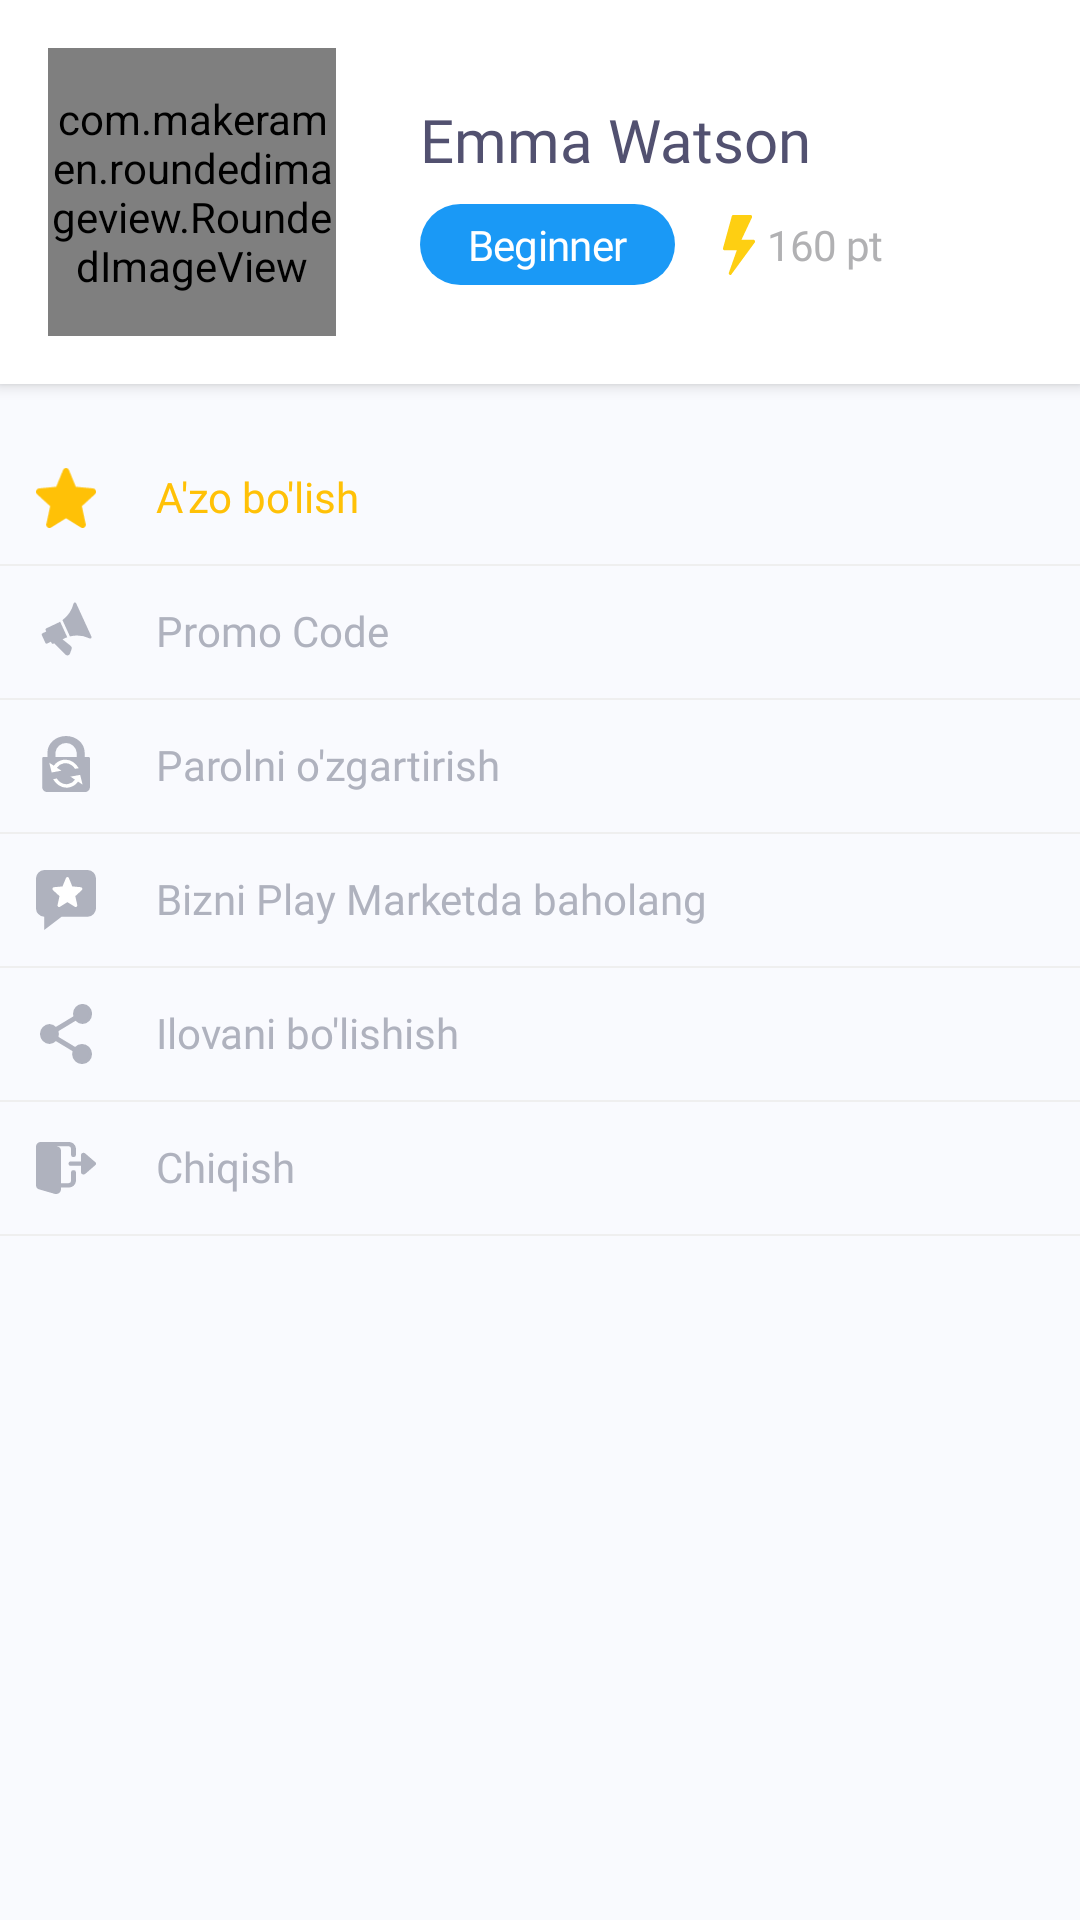

Locate icon controls on the screen. Image size 1080x1920, boxes as [x1=x1, y1=y1, x2=x2, y2=y2].
bullhorn: [x1=42, y1=602, x2=92, y2=656]
lock change password: [x1=42, y1=736, x2=90, y2=792]
rating star: [x1=36, y1=870, x2=96, y2=930]
share: [x1=40, y1=1004, x2=92, y2=1064]
star: [x1=36, y1=468, x2=96, y2=528]
thunder: [x1=723, y1=215, x2=755, y2=275]
